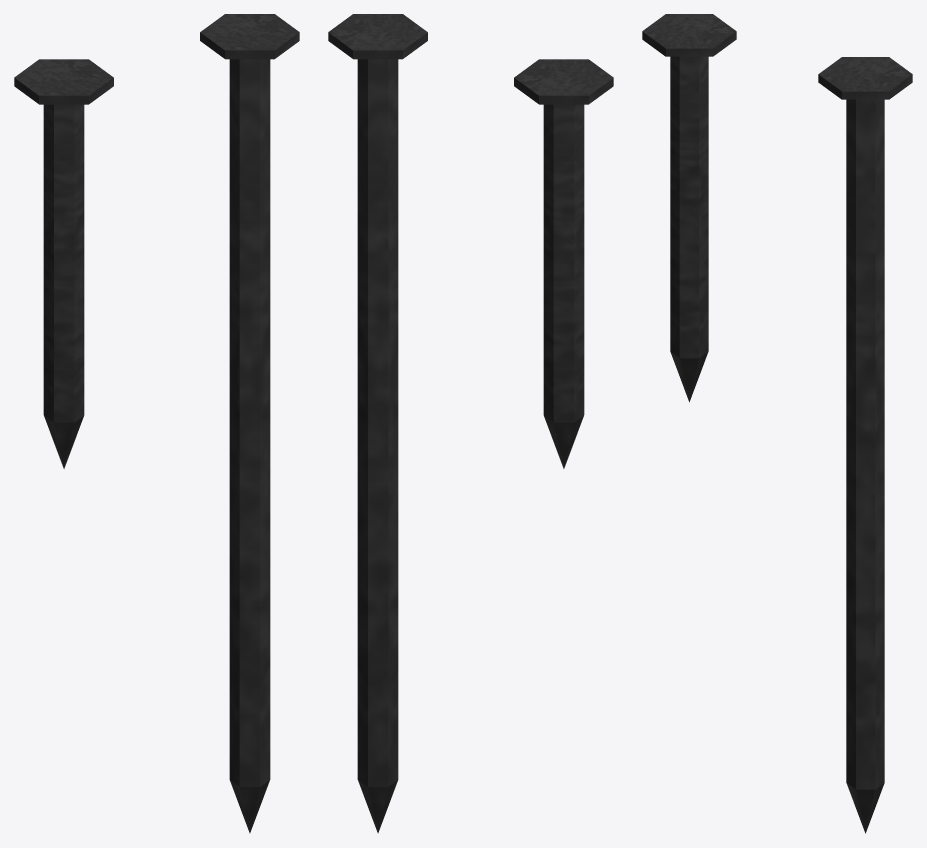
The model's file is Nails.fbx.
The picture shows the model from 3 angles, left to right: view 1: azimuth 30°, elevation 25°; view 2: azimuth 150°, elevation 25°; view 3: azimuth 330°, elevation 25°; orthographic projection. The views are drawn at different scales.
Visible parts, largest first — view 1: Nail, Nail2; view 2: Nail, Nail2; view 3: Nail, Nail2.
Part boxes in pixels (x1=…): Nail: x1=200, y1=14, x2=299, y2=833; Nail2: x1=14, y1=59, x2=113, y2=468; Nail: x1=328, y1=14, x2=427, y2=833; Nail2: x1=514, y1=59, x2=613, y2=468; Nail: x1=818, y1=57, x2=912, y2=833; Nail2: x1=642, y1=14, x2=736, y2=402.
Bounding box in the file's own units: 171 × 504 × 56.72.
2 materials, 2 textured.
